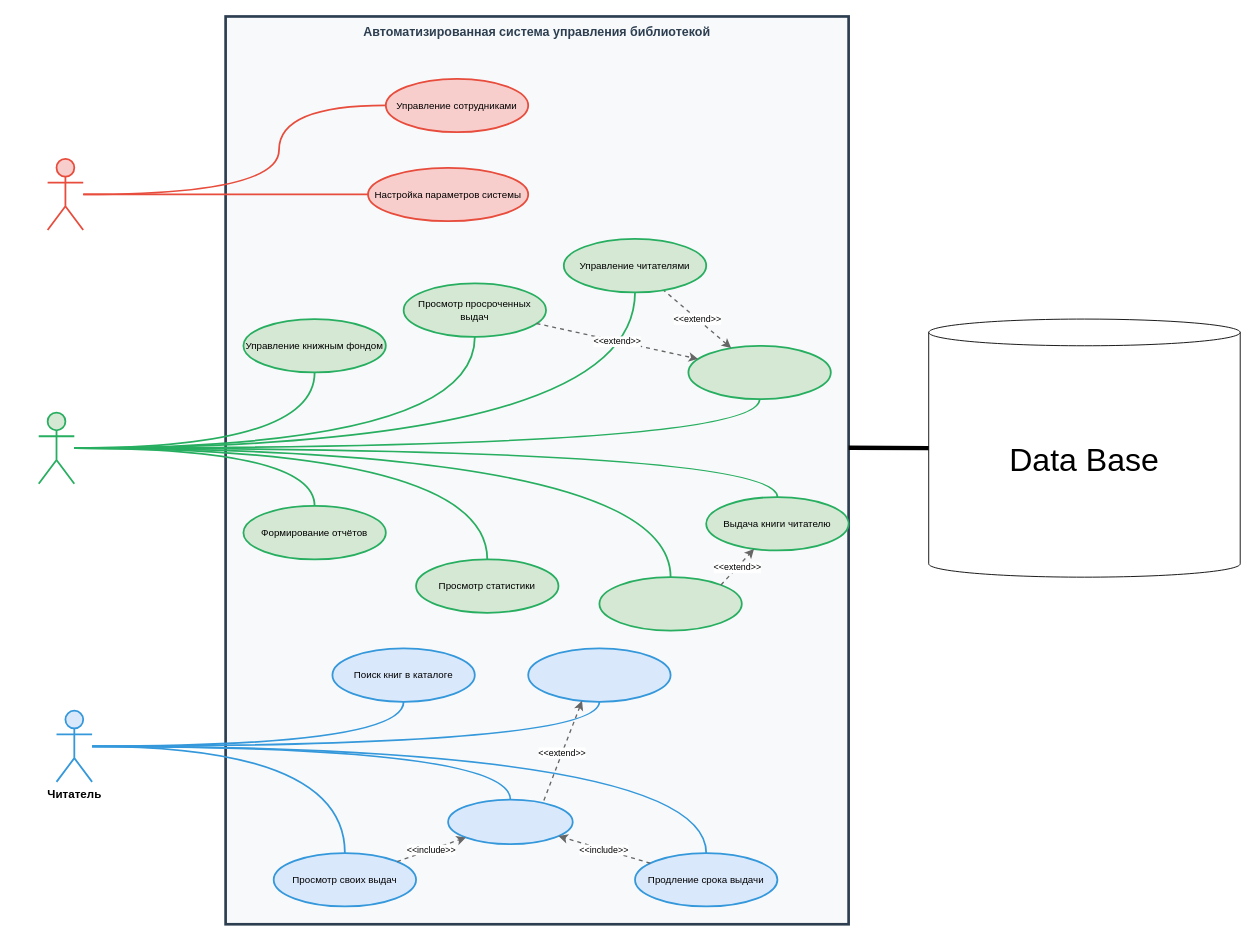
Some shapes in this 1256 by 941 pixel diagram are drawn without their labels. Each missing label, with the box of its shape:
Администратор: (46, 158, 84, 231)
Библиотекарь: (37, 411, 75, 484)
Блокировка читателя: (687, 344, 831, 400)
Вход в систему: (447, 798, 573, 845)
Приём возвращённой книги: (598, 576, 742, 631)
Самостоятельная регистрация: (527, 647, 671, 702)
